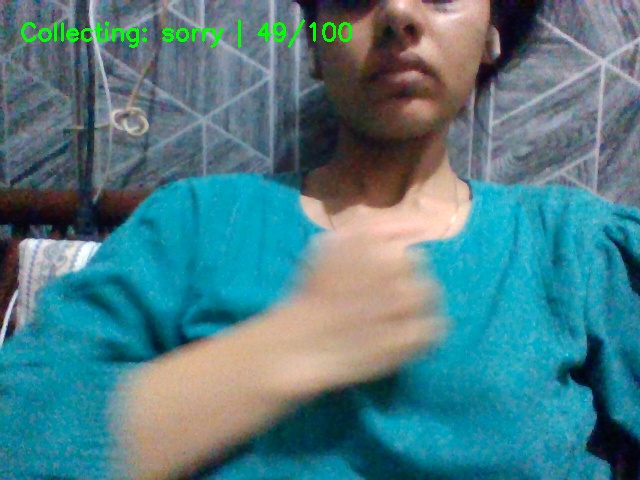sorry: (259, 197, 463, 413)
